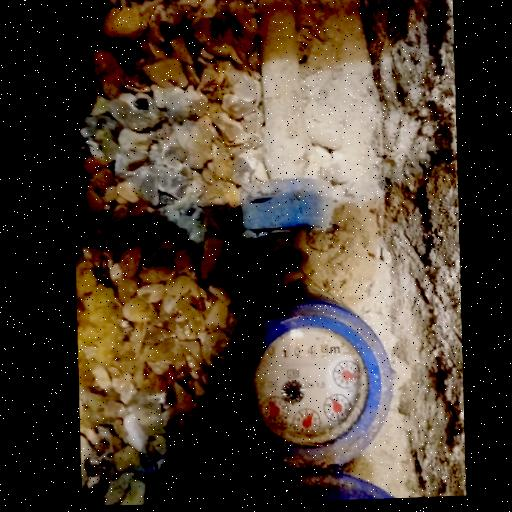0: (292, 343, 302, 359), (266, 345, 276, 358)
1: (281, 343, 289, 359)
4: (306, 342, 316, 357)
8: (319, 342, 329, 357)
border_water_meter_number: (265, 341, 329, 361)
